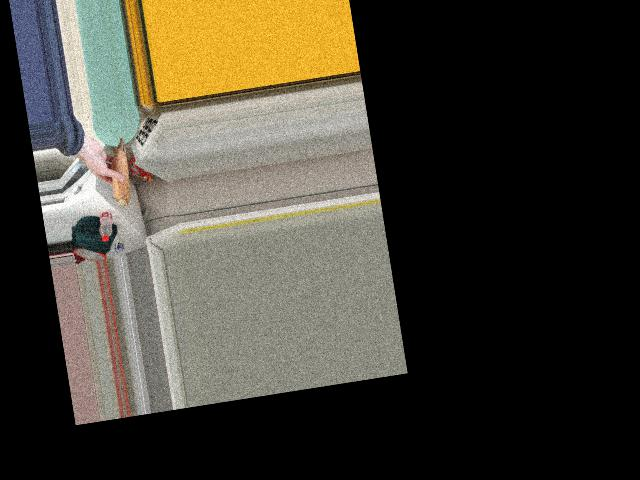sweet_potato: (104, 140, 133, 206)
